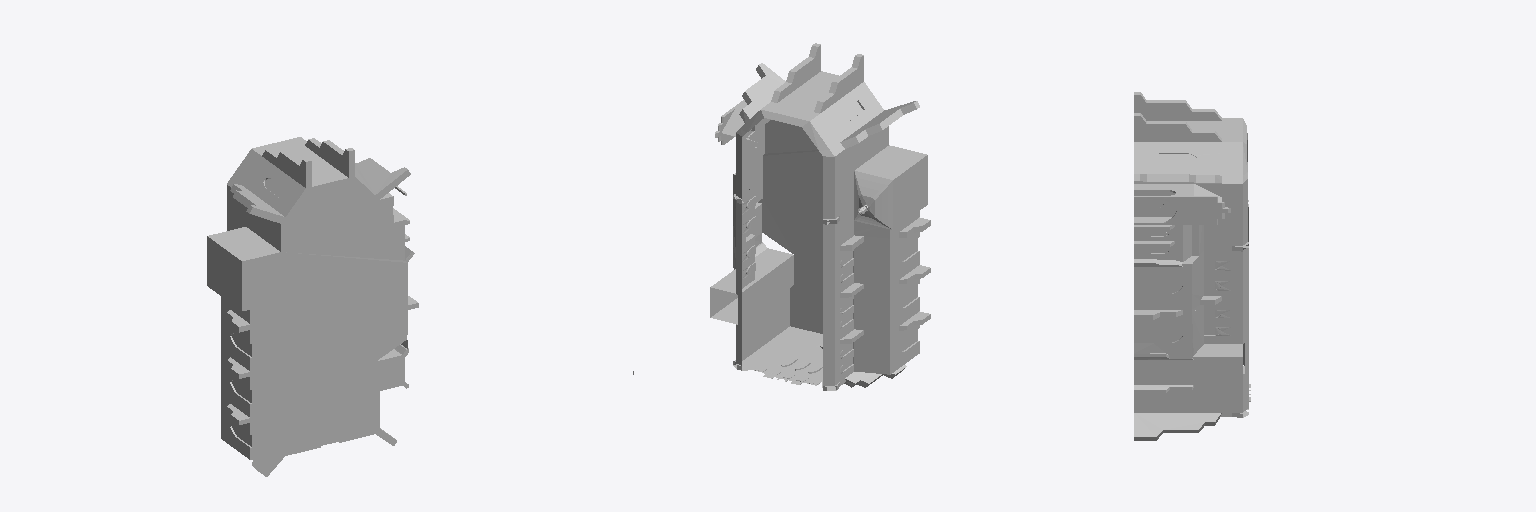
File: jedna druga JANA.obj
3 renders of one model, left to right at view 1: azimuth 30°, elevation 25°; view 2: azimuth 150°, elevation 25°; view 3: azimuth 270°, elevation 25°, orthographic.
Visible parts, largest first — view 1: Cube_Cube.004; view 2: Cube_Cube.004; view 3: Cube_Cube.004.
Part boxes in pixels (left/top/right/bottom): Cube_Cube.004: left=207, top=137, right=418, bottom=476; Cube_Cube.004: left=633, top=43, right=930, bottom=390; Cube_Cube.004: left=1134, top=92, right=1250, bottom=440.
Bounding box in the file's own units: 0.0346 × 0.0564 × 0.0488.